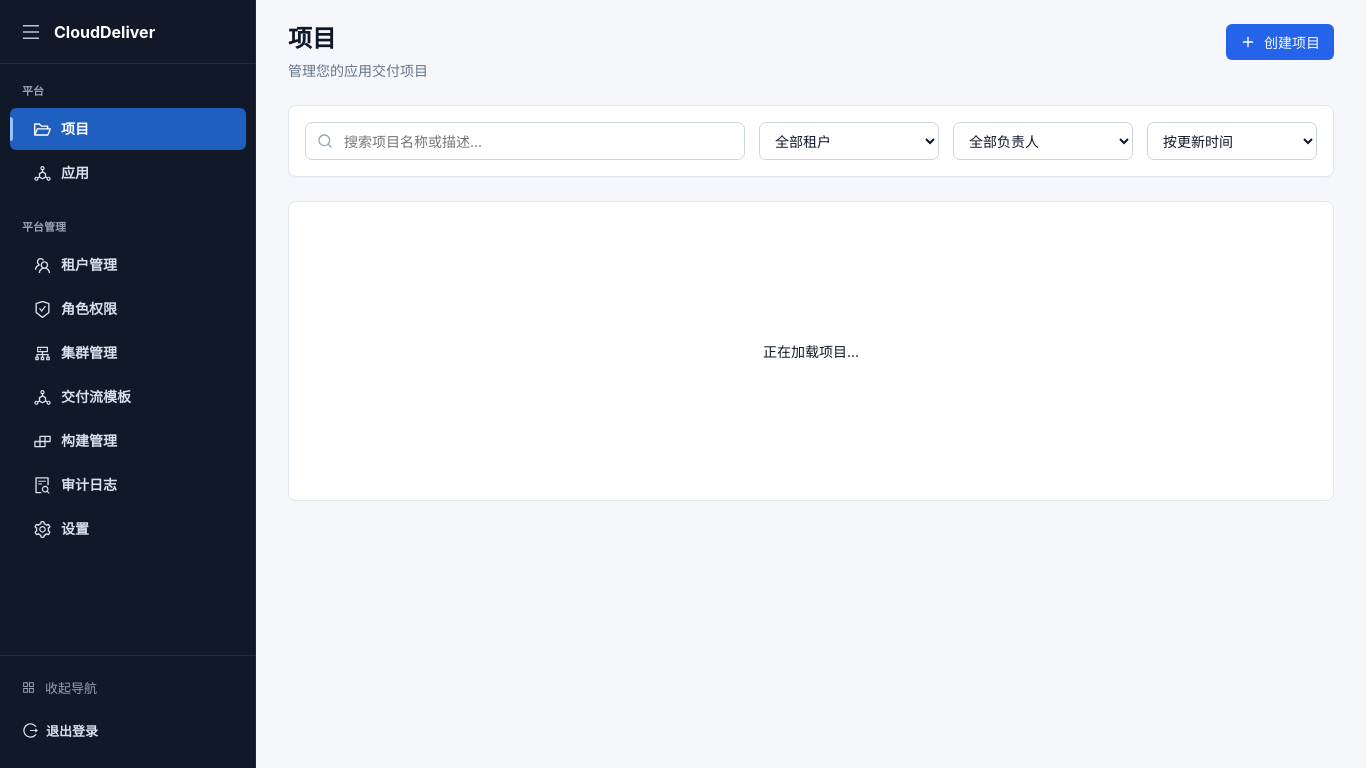
it: 左侧栏底部可以退出登录
This screenshot has width=1366, height=768.
Click the button "退出登录" at coordinates (128, 731), box [20,712,236,750]
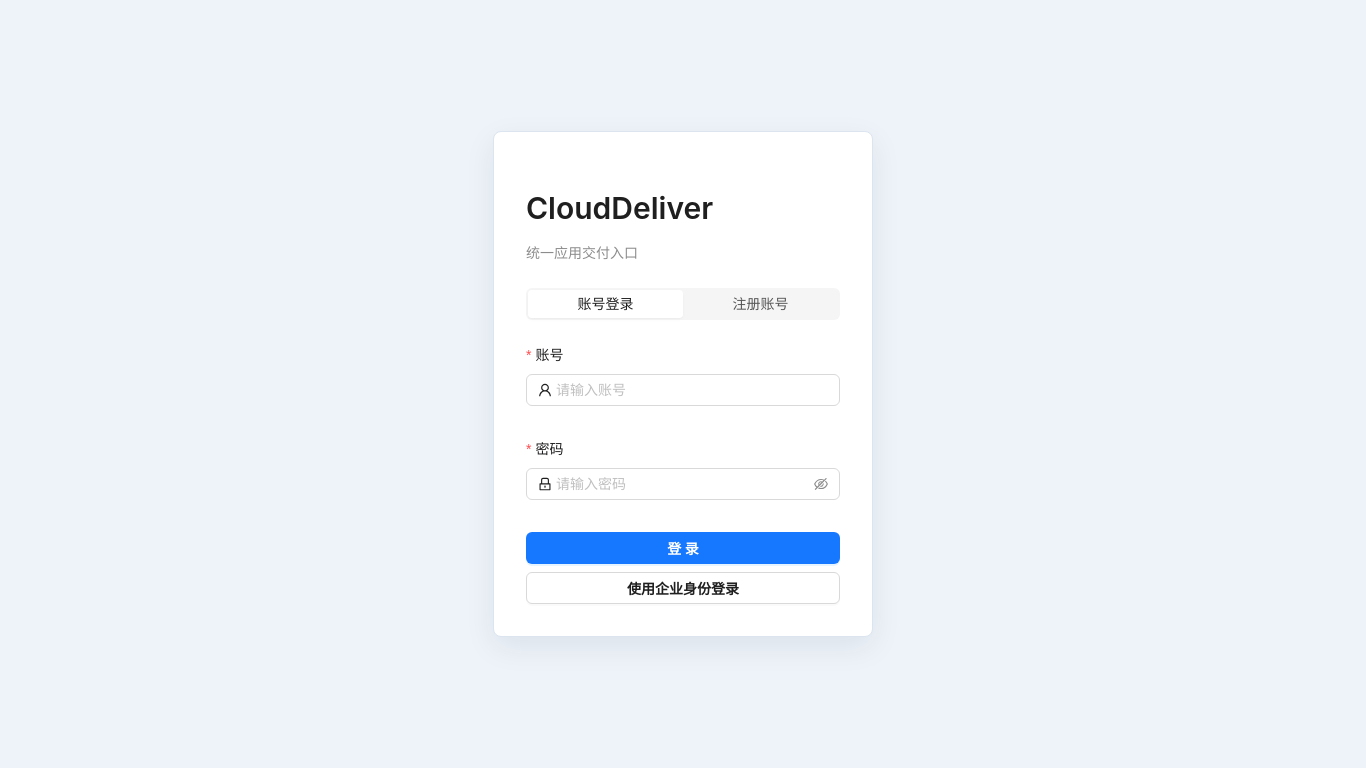
Now the button "登 录" is shown, box [526,532,840,564]
